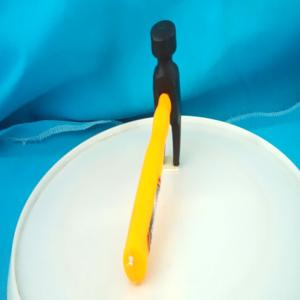martelo: (122, 19, 182, 286)
